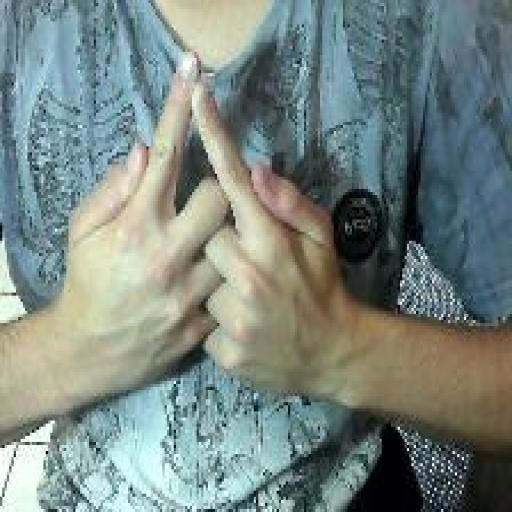Uma -horse-: (60, 44, 342, 410)
